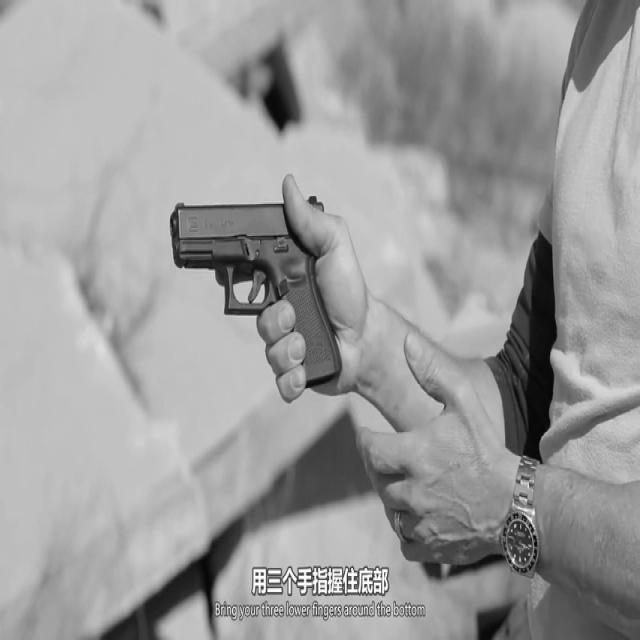Hand-Gun: (138, 88, 436, 561)
